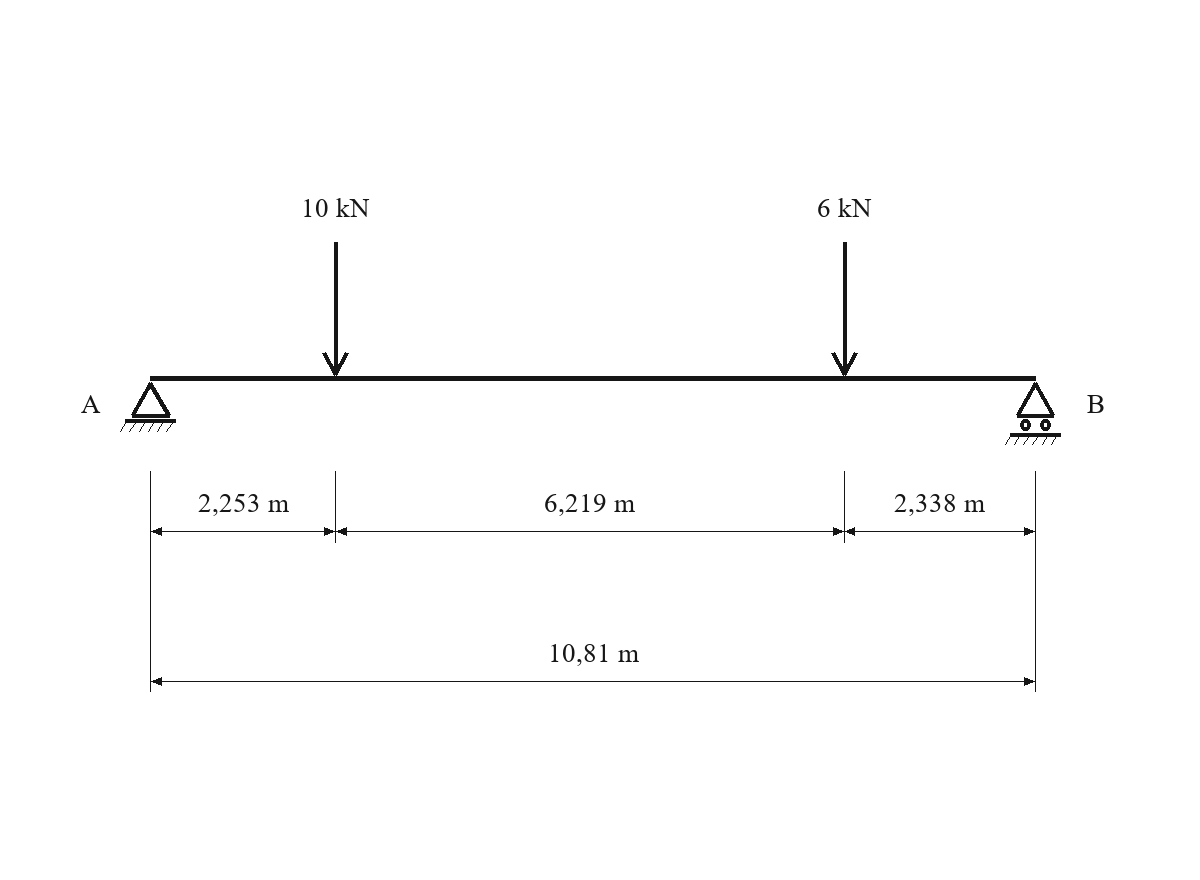pin_support: (120, 382, 176, 432)
point_load: (322, 242, 349, 376), (831, 242, 858, 376)
roller_support: (1005, 382, 1061, 445)
